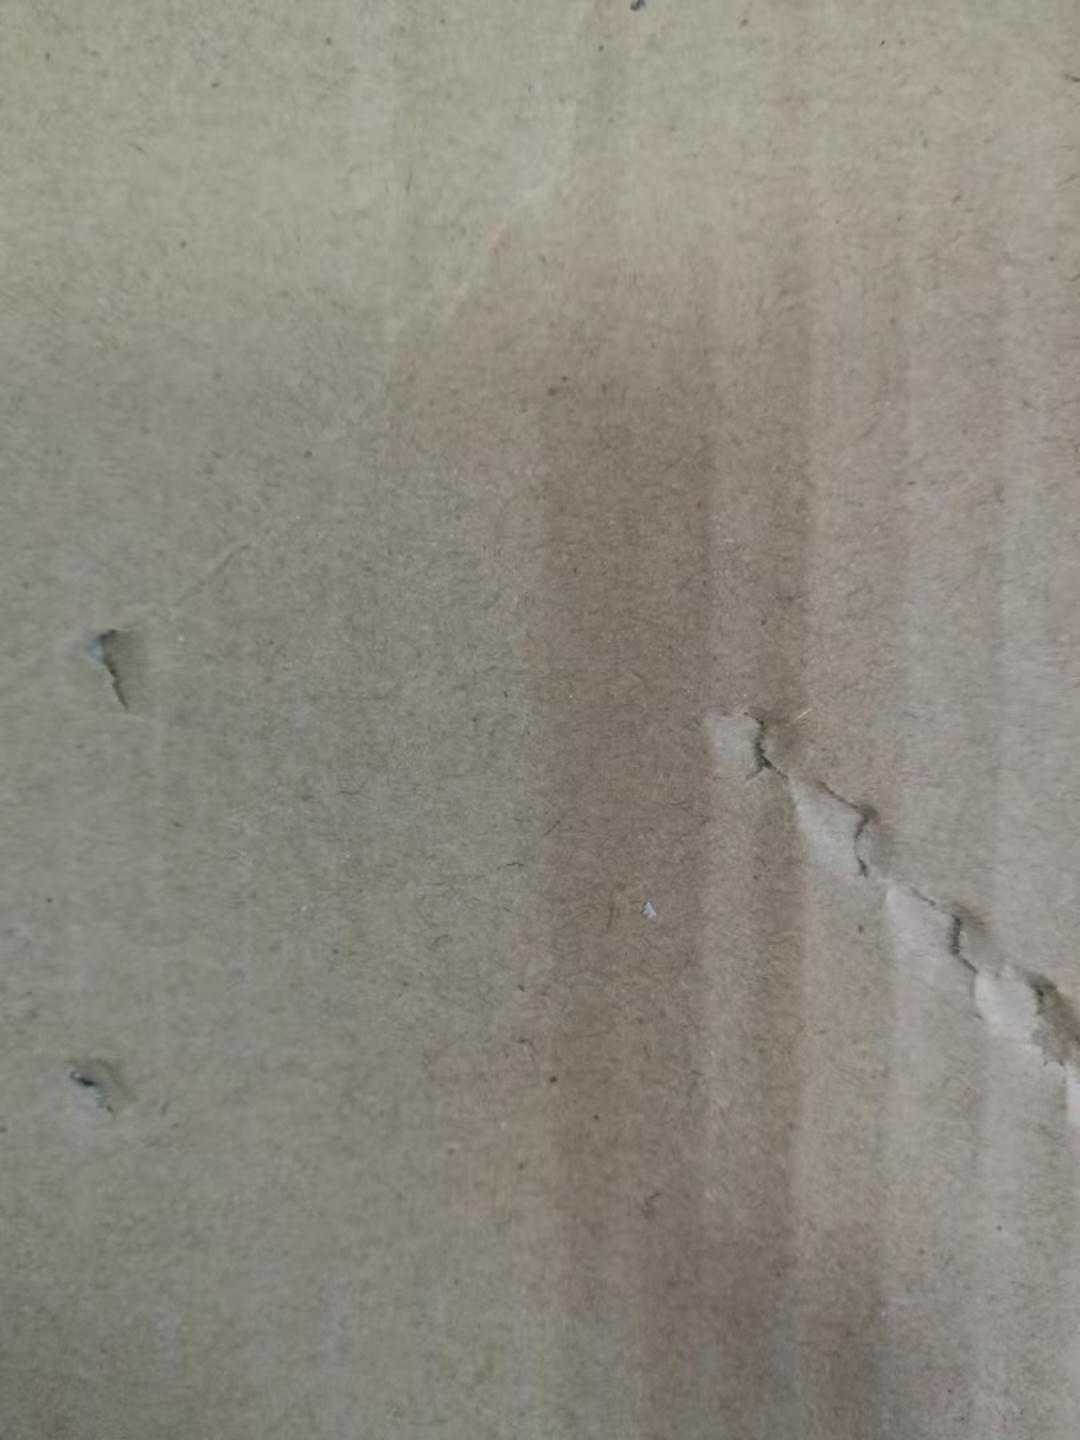defect: (1, 1, 636, 721), (652, 657, 1080, 1136), (22, 1020, 164, 1157)
